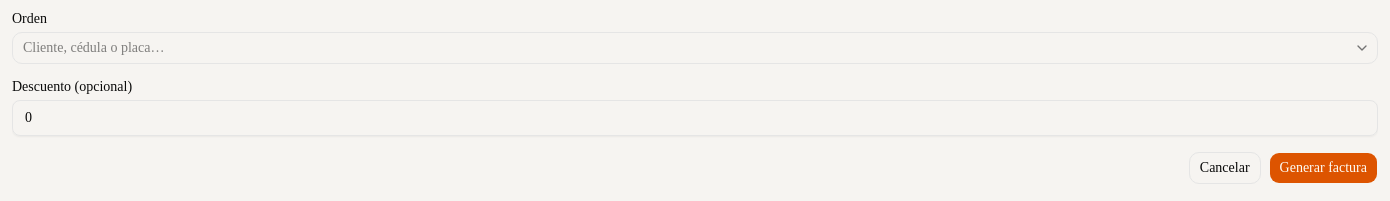
NuevaFacturaForm › lists every orden by placa, cliente, and total once the picker is open
Click the dropdown. click: (695, 48)
box: 12,32 -> 1378,64
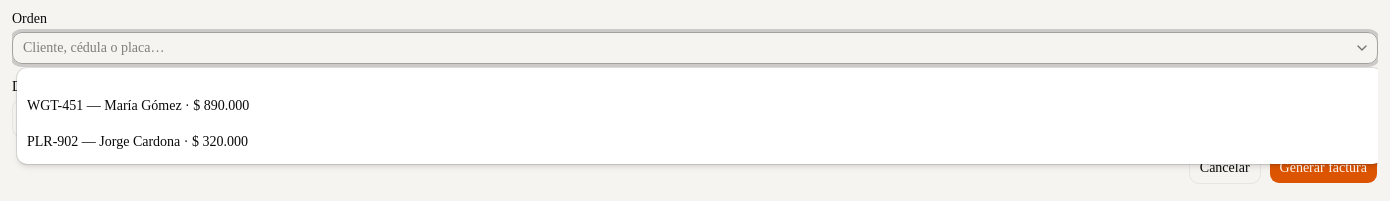
Expected: the option "WGT-451 — María Gómez · $ 890.000" is shown, 27,98 -> 249,113
Expected: the option "PLR-902 — Jorge Cardona · $ 320.000" is shown, 27,134 -> 248,149
